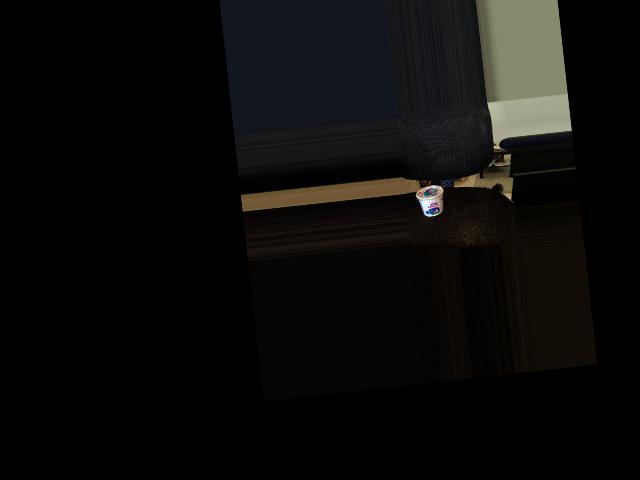cotage: (414, 183, 448, 219)
